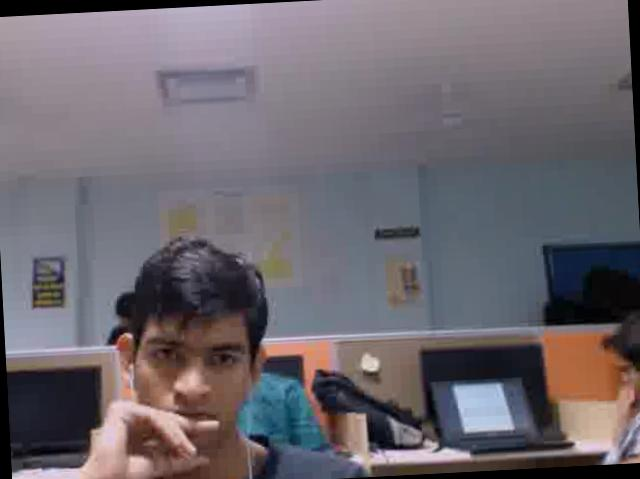bingung: (134, 299, 258, 453)
